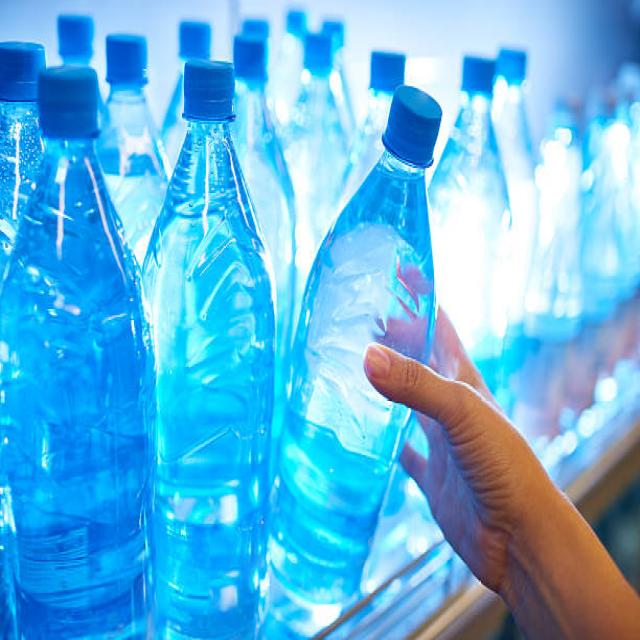plastic: (15, 24, 394, 572)
